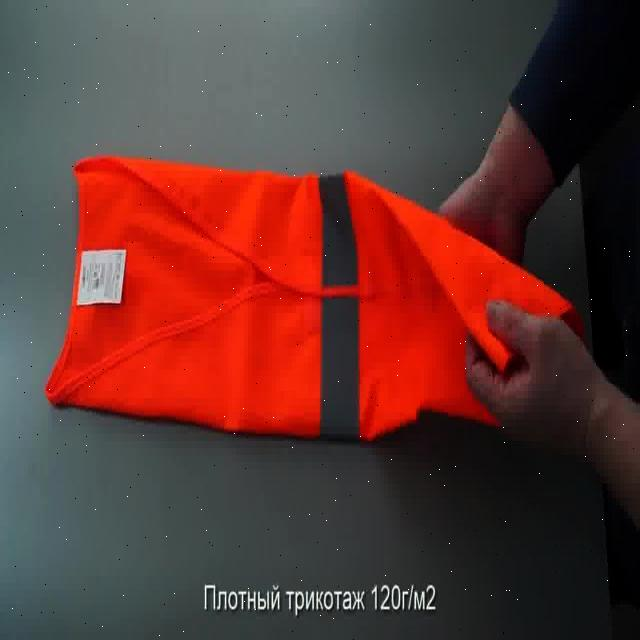Vest: (44, 151, 588, 445)
